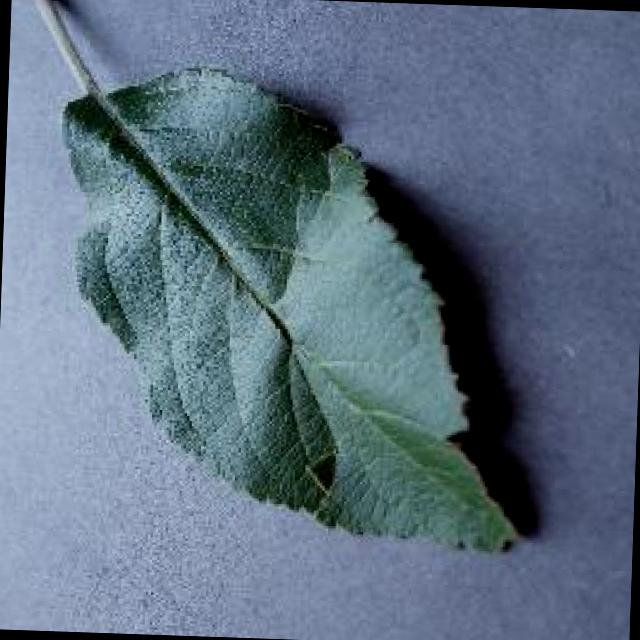healthy: (62, 41, 515, 551)
